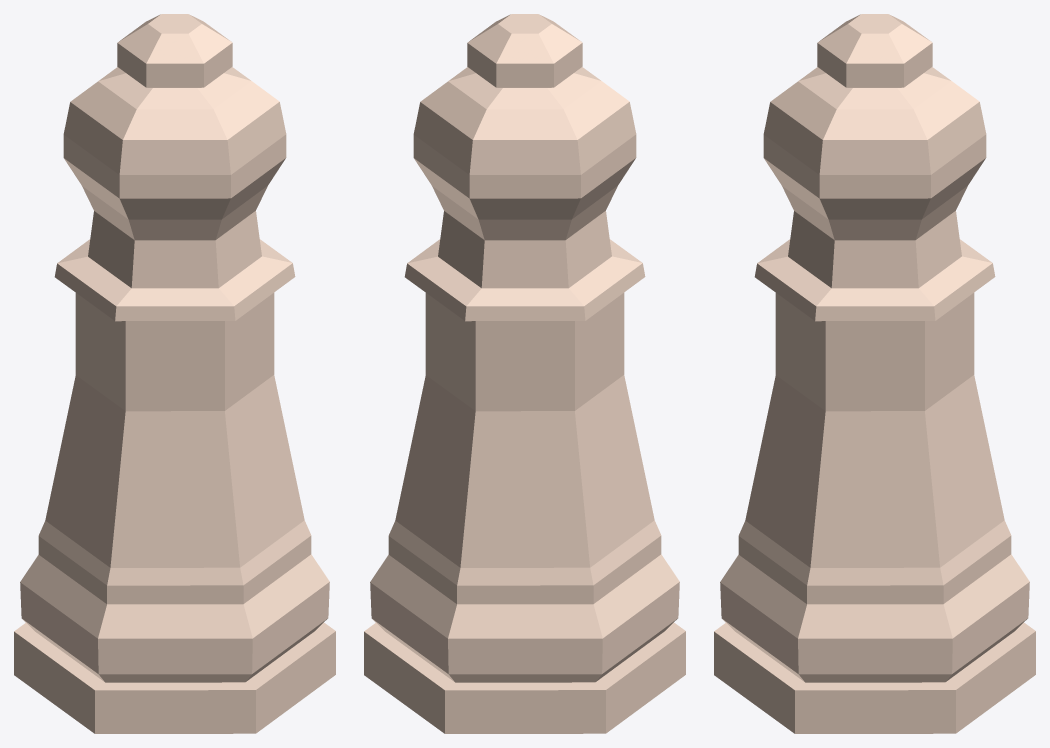
File: chessPieces_Queen_White.fbx
3 renders of one model, left to right at view 1: azimuth 30°, elevation 25°; view 2: azimuth 150°, elevation 25°; view 3: azimuth 270°, elevation 25°, orthographic.
Parts seen in each view (by area): view 1: Chess_Queen_White; view 2: Chess_Queen_White; view 3: Chess_Queen_White.
Boxes of the visible parts, x1,y1,x2,y2 form: Chess_Queen_White: (14, 14, 335, 733); Chess_Queen_White: (364, 14, 685, 733); Chess_Queen_White: (714, 14, 1035, 733).
Bounding box in the file's own units: 269 × 691 × 310.
